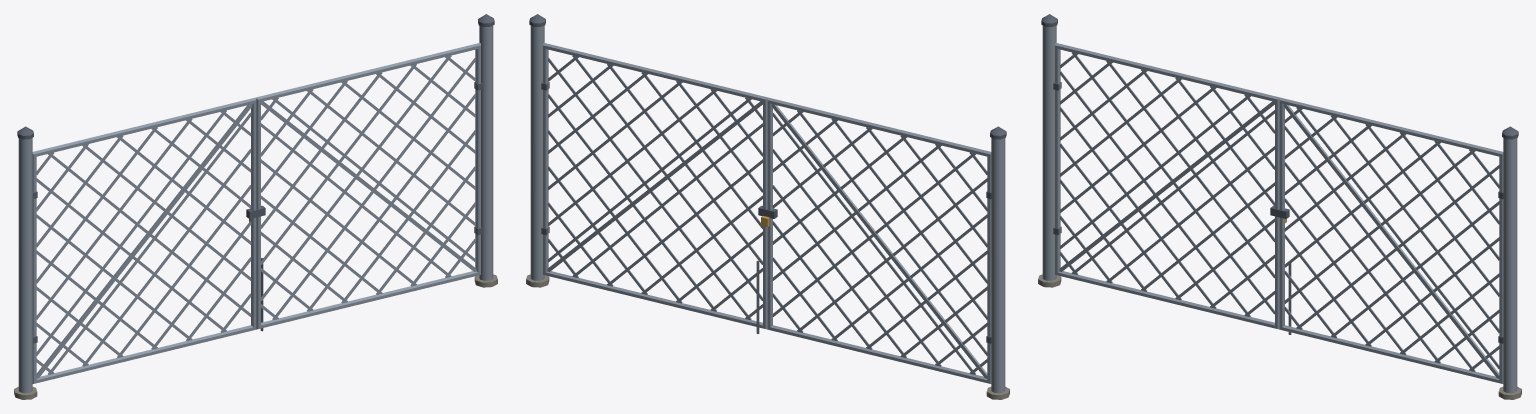
File: gate_chainlink.glb
3 renders of one model, left to right at view 1: azimuth 30°, elevation 25°; view 2: azimuth 150°, elevation 25°; view 3: azimuth 330°, elevation 25°, orthographic.
Parts seen in each view (by area): view 1: Gate_L, Gate_R, gate_chainlink; view 2: Gate_L, Gate_R, gate_chainlink; view 3: Gate_R, Gate_L, gate_chainlink.
Part boxes in pixels (x1,y1,x2,y2): Gate_L: (32, 97, 265, 383); Gate_R: (256, 43, 482, 331); gate_chainlink: (14, 14, 497, 399); Gate_L: (758, 97, 991, 383); Gate_R: (541, 43, 767, 333); gate_chainlink: (526, 14, 1009, 399); Gate_R: (1279, 97, 1503, 383); Gate_L: (1053, 43, 1289, 329); gate_chainlink: (1038, 14, 1521, 399).
Bounding box in the file's own units: 4.18 × 2.23 × 0.18.
